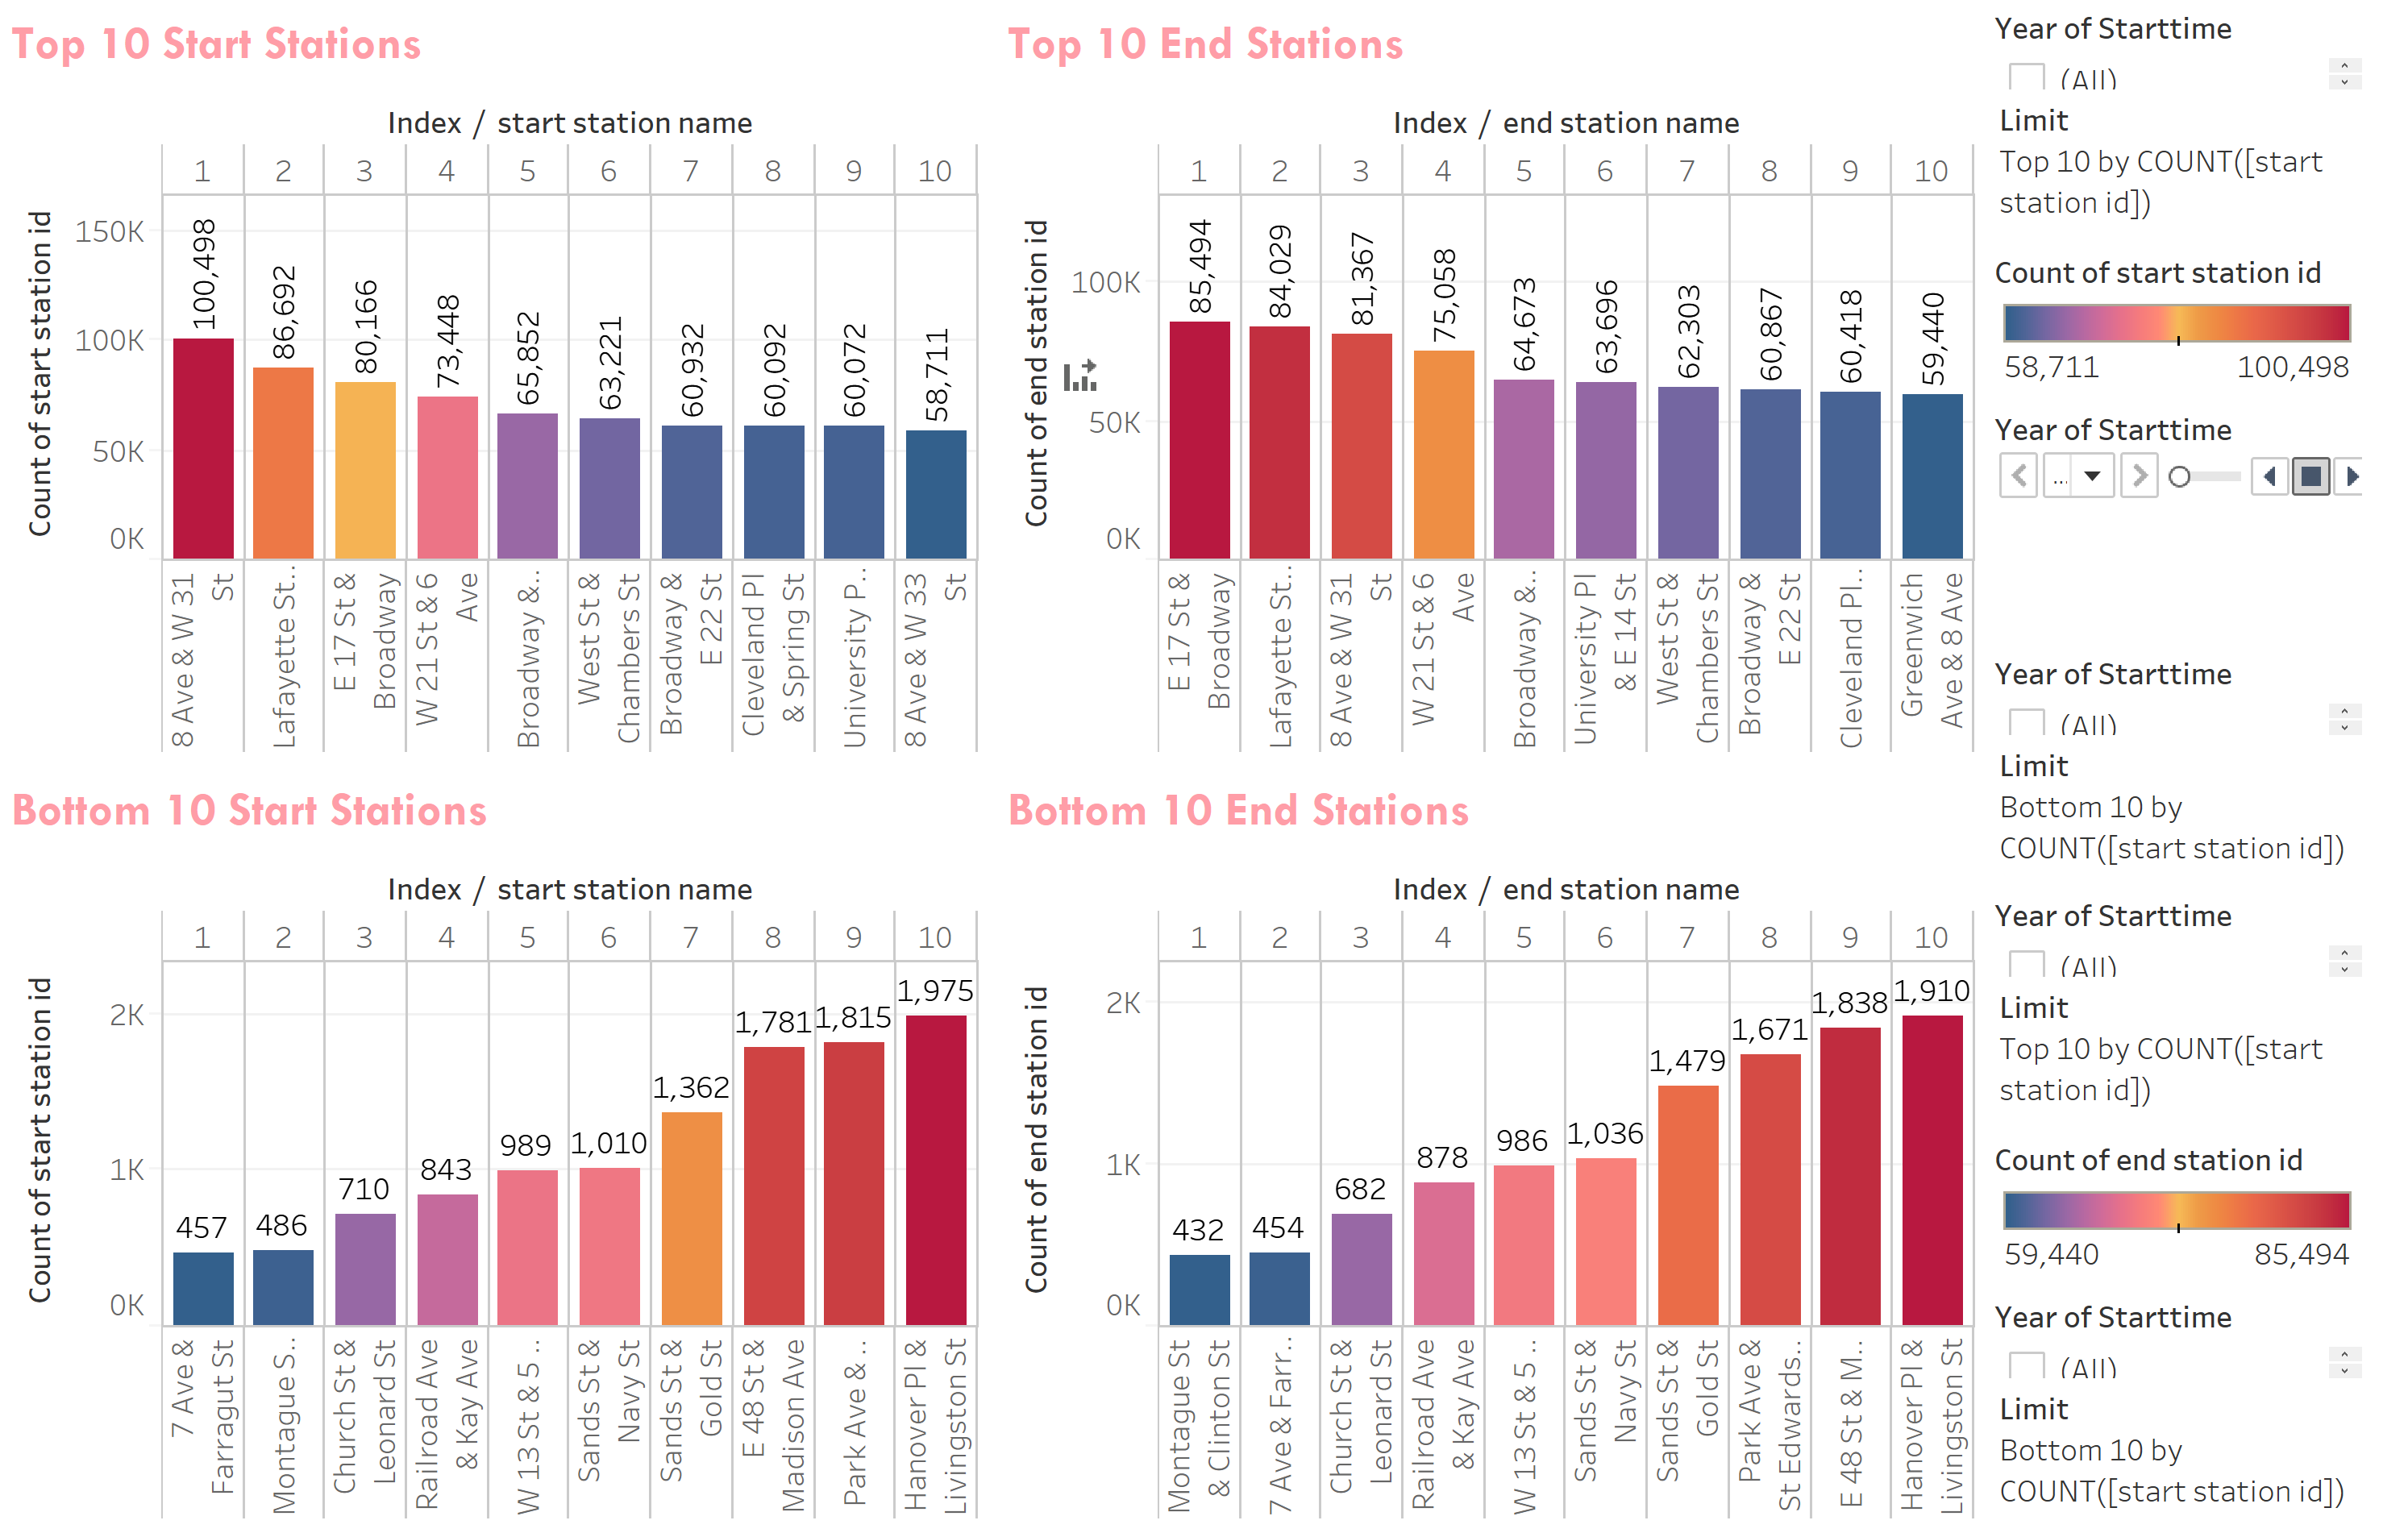

The page's visual inventory and layout, read from the dashboard file:
{"tool":"tableau","page":{"name":"Dashboard 4","canvas":[1000,800],"ordinal":3},"visuals":[{"type":"worksheet","title":"Sheet 6","mark":"Automatic","rows":["start station id"],"cols":["Calculation_1600748252908560384","start station name"],"box":[8,8,412,392]},{"type":"worksheet","title":"Sheet 7","mark":"Automatic","rows":["end station id"],"cols":["Calculation_1600748252908560384","end station name"],"box":[420,8,412,392]},{"type":"filter","title":"Sheet 6","param":"[federated.0o6bcyj08k7vi61bhyd3708n9wq9].[yr:starttime:ok]","box":[832,8,160,136]},{"type":"legend","title":"Sheet 6","param":"[federated.0o6bcyj08k7vi61bhyd3708n9wq9].[cnt:start station id:qk]","box":[832,144,160,65]},{"type":"currpage","title":"Sheet 6","box":[832,209,160,110]},{"type":"filter","title":"Sheet 6 (1)","param":"[federated.0o6bcyj08k7vi61bhyd3708n9wq9].[yr:starttime:ok]","box":[832,319,160,136]},{"type":"worksheet","title":"Sheet 6 (1)","mark":"Automatic","rows":["start station id"],"cols":["Calculation_1600748252908560384","start station name"],"box":[8,400,412,392]},{"type":"worksheet","title":"Sheet 7 (1)","mark":"Automatic","rows":["end station id"],"cols":["Calculation_1600748252908560384","end station name"],"box":[420,400,412,392]},{"type":"filter","title":"Sheet 7","param":"[federated.0o6bcyj08k7vi61bhyd3708n9wq9].[yr:starttime:ok]","box":[832,455,160,136]},{"type":"legend","title":"Sheet 7","param":"[federated.0o6bcyj08k7vi61bhyd3708n9wq9].[cnt:end station id:qk]","box":[832,591,160,65]},{"type":"filter","title":"Sheet 7 (1)","param":"[federated.0o6bcyj08k7vi61bhyd3708n9wq9].[yr:starttime:ok]","box":[832,656,160,136]}]}

Visuals, with their boxes on the page's 1000x800 design canvas (x1, y1, x2, y2). These are canvas units, not pixel positions in the 2408x1537 screenshot, which may show the page scaled, cropped or inside an application window:
"Sheet 6" worksheet: <region>8, 8, 420, 400</region>
"Sheet 7" worksheet: <region>420, 8, 832, 400</region>
"Sheet 6" filter: <region>832, 8, 992, 144</region>
"Sheet 6" legend: <region>832, 144, 992, 209</region>
"Sheet 6" currpage: <region>832, 209, 992, 319</region>
"Sheet 6 (1)" filter: <region>832, 319, 992, 455</region>
"Sheet 6 (1)" worksheet: <region>8, 400, 420, 792</region>
"Sheet 7 (1)" worksheet: <region>420, 400, 832, 792</region>
"Sheet 7" filter: <region>832, 455, 992, 591</region>
"Sheet 7" legend: <region>832, 591, 992, 656</region>
"Sheet 7 (1)" filter: <region>832, 656, 992, 792</region>
